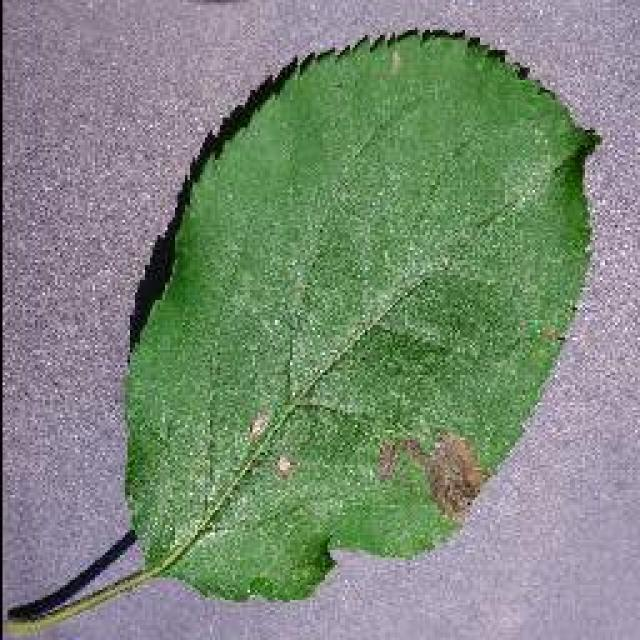Black_rot: (2, 25, 602, 637)
